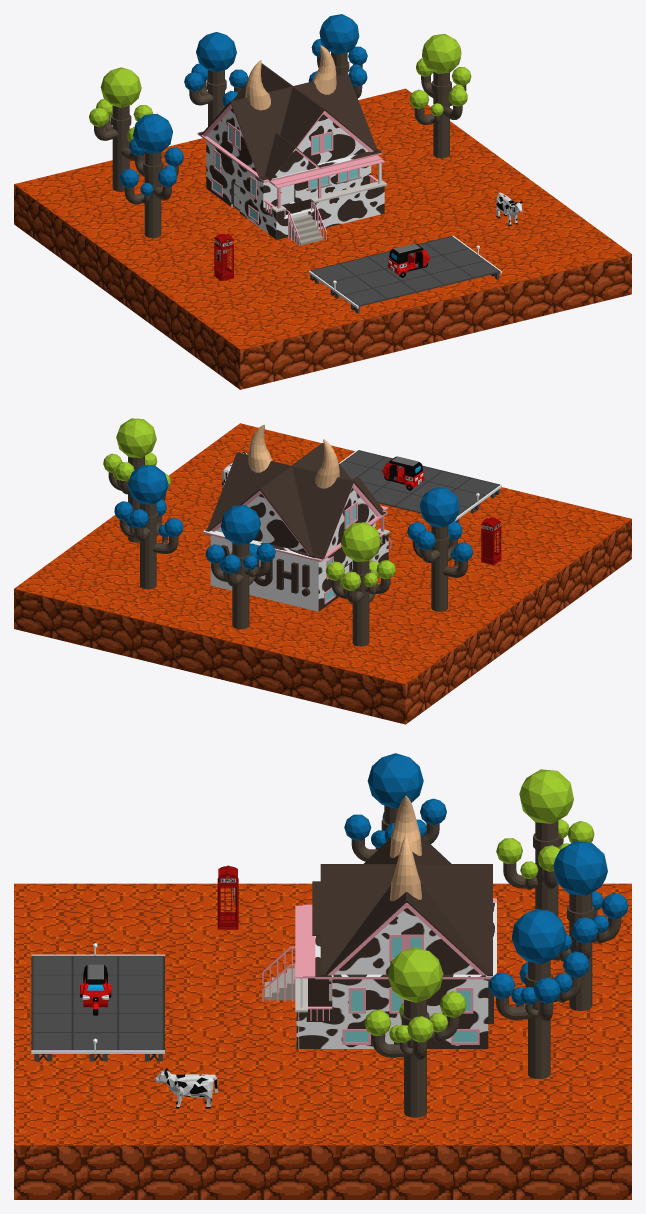
The picture shows the model from 3 angles, top to bottom: view 1: azimuth 30°, elevation 25°; view 2: azimuth 150°, elevation 25°; view 3: azimuth 270°, elevation 25°; orthographic projection. The views are drawn at different scales.
Visible parts, largest first — view 1: Cube.001, Cube.1242, VEHICLES_TUC_TUC, OBJRANDOM_PHONEBOOTH, ANIMAL_VACA; view 2: Cube.001, Cube.1242, VEHICLES_TUC_TUC, OBJRANDOM_PHONEBOOTH; view 3: Cube.001, Cube.1242, ANIMAL_VACA, OBJRANDOM_PHONEBOOTH, VEHICLES_TUC_TUC.
Part boxes in pixels (x1,y1,x2,y2): Cube.001: (14,14,631,389); Cube.1242: (197,45,387,246); VEHICLES_TUC_TUC: (387,243,429,277); OBJRANDOM_PHONEBOOTH: (213,234,233,281); ANIMAL_VACA: (496,192,522,225); Cube.001: (14,418,631,724); Cube.1242: (202,424,391,611); VEHICLES_TUC_TUC: (382,456,424,490); OBJRANDOM_PHONEBOOTH: (481,517,501,565); Cube.001: (14,753,631,1199); Cube.1242: (262,796,496,1048); ANIMAL_VACA: (154,1068,218,1108); OBJRANDOM_PHONEBOOTH: (217,865,238,929); VEHICLES_TUC_TUC: (80,964,111,1015).
Bounding box in the file's own units: 4000 × 1890 × 4000.
Materials: 43 (4 with a texture image).
